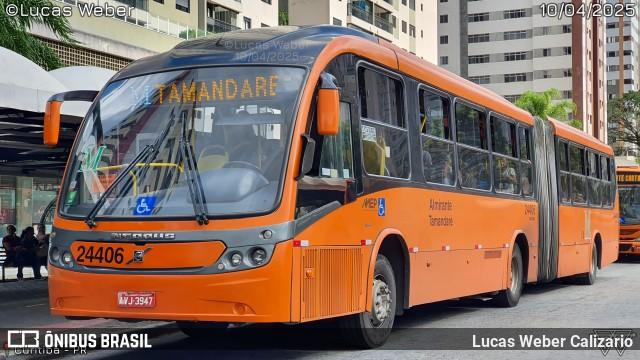TAMANDARE: (152, 72, 288, 110)
